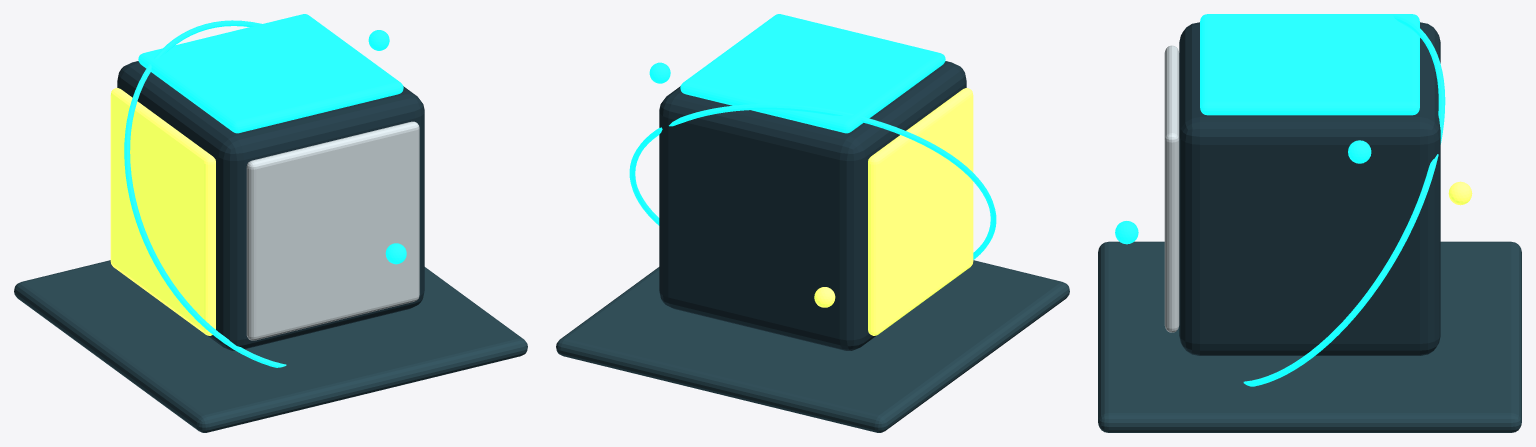
Rendered from dark-ice-systems-cube.glb.
3 views of the same model, side by side, from view 1: azimuth 30°, elevation 25°; view 2: azimuth 150°, elevation 25°; view 3: azimuth 270°, elevation 25° (orthographic). The views are drawn at different scales.
Parts seen in each view (by area): view 1: Signal Platform, Delivery Face, Architecture Face, Automation Face, Systems Cube Core, Live Signal Orbit; view 2: Systems Cube Core, Signal Platform, Automation Face, Architecture Face, Live Signal Orbit; view 3: Systems Cube Core, Signal Platform, Architecture Face, Delivery Face, Live Signal Orbit, Signal Node 1, Signal Node 3, Signal Node 2.
Part boxes in pixels (x1=…): Signal Platform: x1=14, y1=260, x2=527, y2=432; Delivery Face: x1=246, y1=121, x2=419, y2=340; Architecture Face: x1=138, y1=14, x2=403, y2=133; Automation Face: x1=110, y1=88, x2=215, y2=335; Systems Cube Core: x1=117, y1=61, x2=424, y2=350; Live Signal Orbit: x1=124, y1=20, x2=286, y2=367; Systems Cube Core: x1=659, y1=61, x2=966, y2=350; Signal Platform: x1=556, y1=260, x2=1069, y2=432; Automation Face: x1=868, y1=88, x2=973, y2=335; Architecture Face: x1=680, y1=14, x2=945, y2=133; Live Signal Orbit: x1=629, y1=104, x2=996, y2=259; Systems Cube Core: x1=1179, y1=22, x2=1440, y2=355; Signal Platform: x1=1098, y1=241, x2=1521, y2=432; Architecture Face: x1=1200, y1=14, x2=1419, y2=115; Delivery Face: x1=1164, y1=45, x2=1179, y2=332; Live Signal Orbit: x1=1243, y1=15, x2=1445, y2=386; Signal Node 1: x1=1348, y1=140, x2=1371, y2=163; Signal Node 3: x1=1115, y1=221, x2=1138, y2=244; Signal Node 2: x1=1448, y1=181, x2=1472, y2=205.
Size of the model in its own units: 3.24 by 2.55 by 3.24.
